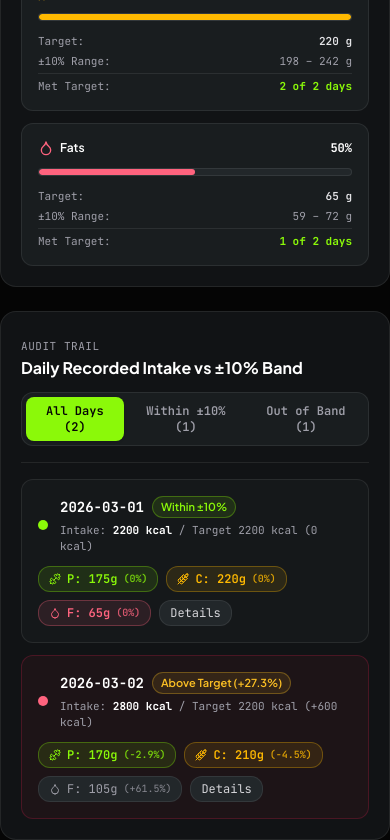
Test: NutritionConsistencyView Component › allows filtering between compliant and out-of-band days
The image size is (390, 840).
(page scrolled)
Click the button "Within ±10% (1)".
click(186, 419)  # box [128, 397, 244, 441]
(page scrolled)
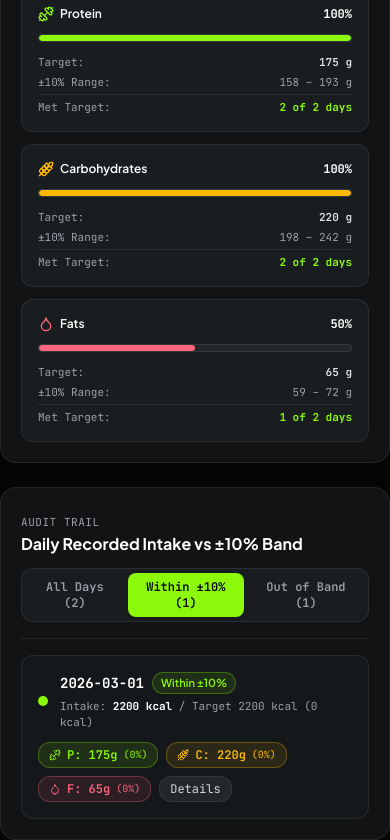
Expected: the text "2026-03-01" is shown, [60, 673, 144, 693]
Now the text "2026-03-02" is gone
Click the button "Out of Band (1)".
click(306, 595)  # box [248, 573, 364, 617]
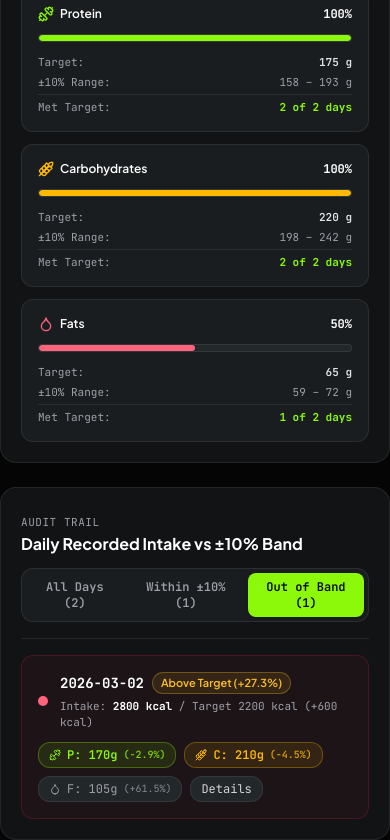
Now the text "2026-03-01" is gone
Now the text "2026-03-02" is shown, box [60, 673, 144, 693]
